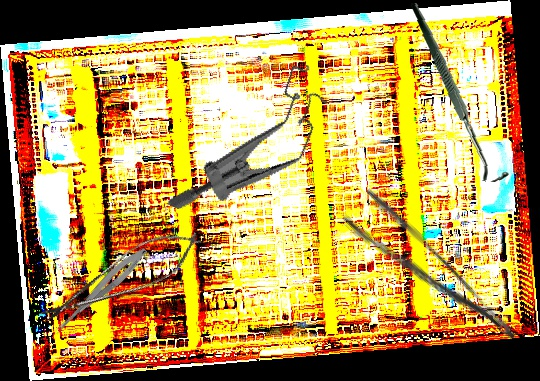Dressing Forceps: (338, 185, 521, 367)
Hook Surgical: (398, 2, 521, 184)
Micro Scissor: (29, 216, 213, 340), (50, 242, 151, 341)
Speculum: (164, 34, 341, 248)
